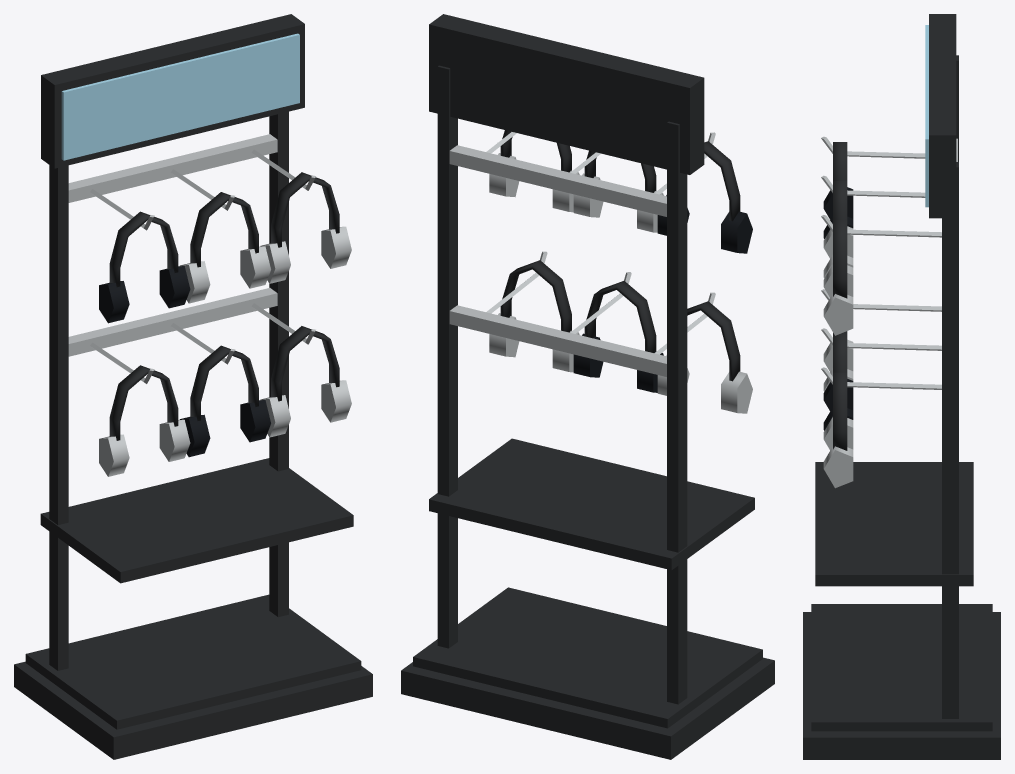
Rendered from s13-headphone-display-stand-low.glb.
The picture shows the model from 3 angles, left to right: view 1: azimuth 30°, elevation 25°; view 2: azimuth 150°, elevation 25°; view 3: azimuth 270°, elevation 25°; orthographic projection. The views are drawn at different scales.
Parts seen in each view (by area): view 1: Acoustic rack, Six over-ear headsets, Suspended hooks; view 2: Acoustic rack, Six over-ear headsets, Suspended hooks; view 3: Acoustic rack, Six over-ear headsets, Suspended hooks.
Part boxes in pixels (bbox=[...]): Acoustic rack: bbox=[14, 14, 372, 759]; Six over-ear headsets: bbox=[99, 172, 351, 476]; Suspended hooks: bbox=[90, 149, 315, 383]; Acoustic rack: bbox=[401, 14, 774, 759]; Six over-ear headsets: bbox=[489, 130, 752, 413]; Suspended hooks: bbox=[486, 132, 715, 354]; Acoustic rack: bbox=[803, 14, 1000, 759]; Six over-ear headsets: bbox=[823, 142, 853, 488]; Suspended hooks: bbox=[821, 136, 941, 389].
Size of the model in its own units: 1.11 by 2.6 by 0.7429.
1 material, 1 textured.
